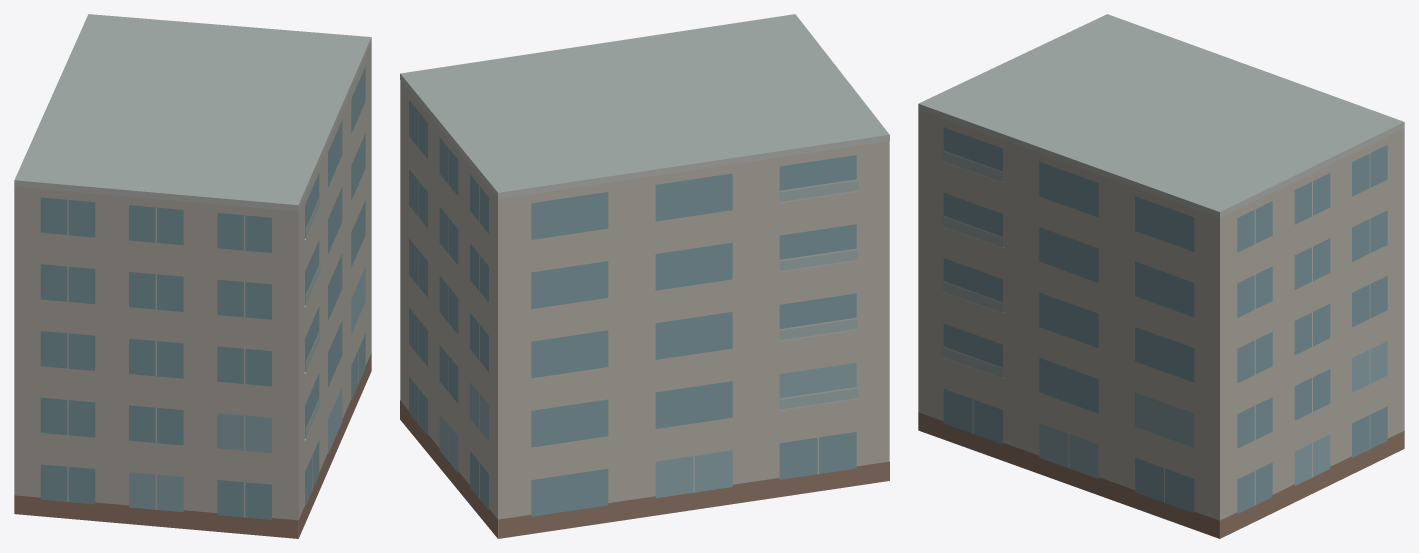
File: survey-upis-32886744.glb
3 renders of one model, left to right at view 1: azimuth 30°, elevation 25°; view 2: azimuth 150°, elevation 25°; view 3: azimuth 270°, elevation 25°, orthographic. The views are drawn at different scales.
Visible parts, largest first — view 1: survey-upis-32886744.tmp; view 2: survey-upis-32886744.tmp; view 3: survey-upis-32886744.tmp.
Boxes of the visible parts, bbox=[...] form: survey-upis-32886744.tmp: bbox=[14, 14, 371, 538]; survey-upis-32886744.tmp: bbox=[400, 14, 889, 538]; survey-upis-32886744.tmp: bbox=[918, 14, 1404, 538].
Size of the model in its own units: 17.21 by 13.23 by 17.85.
